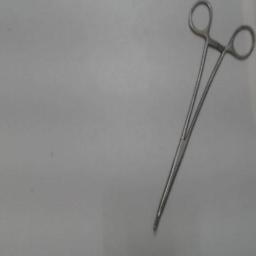Lahey Forceps: (150, 1, 254, 233)
